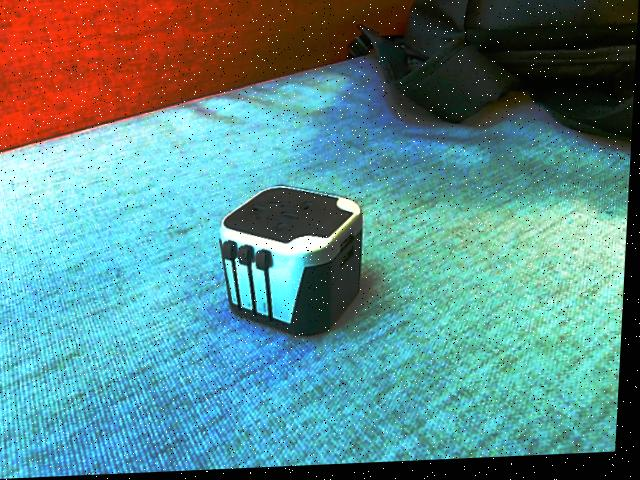adapter: (216, 185, 367, 342)
